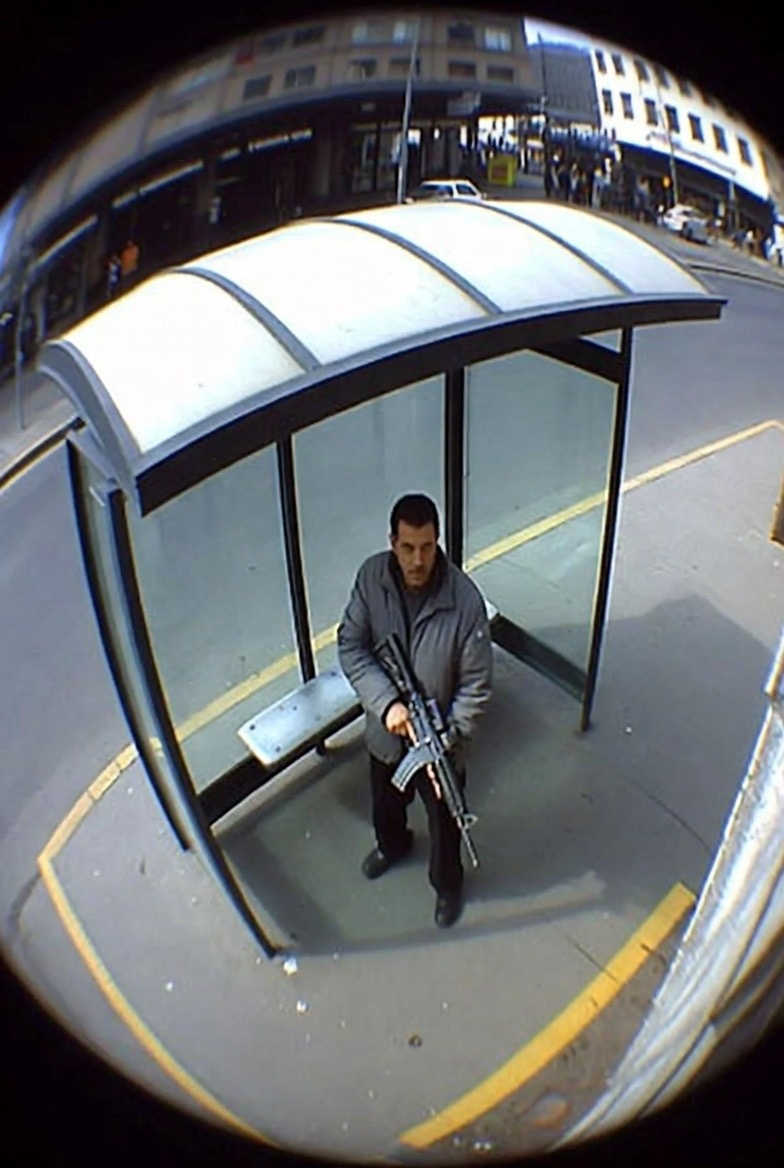gun: (364, 631, 503, 880)
person: (323, 487, 485, 932)
